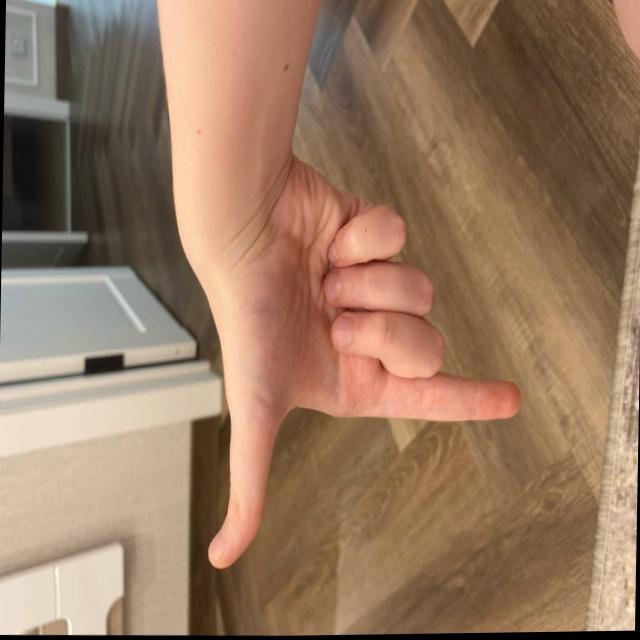g: (184, 162, 527, 574)
